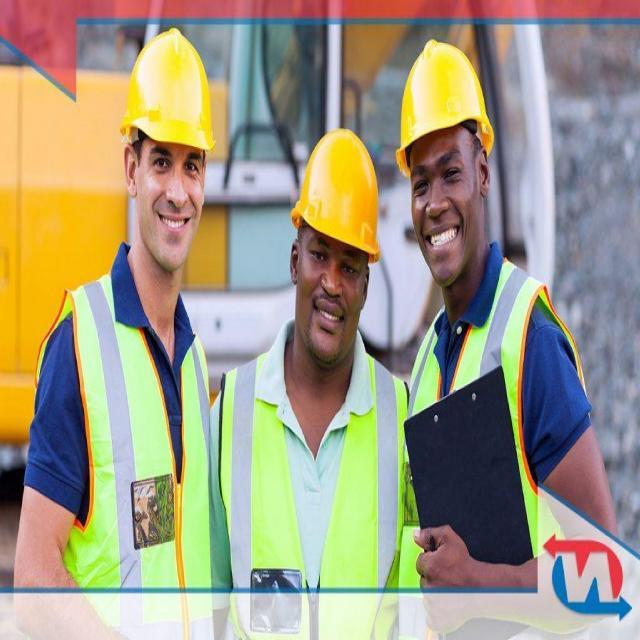Helmet: (114, 27, 218, 271)
Vest: (22, 278, 215, 584), (208, 350, 410, 591)
